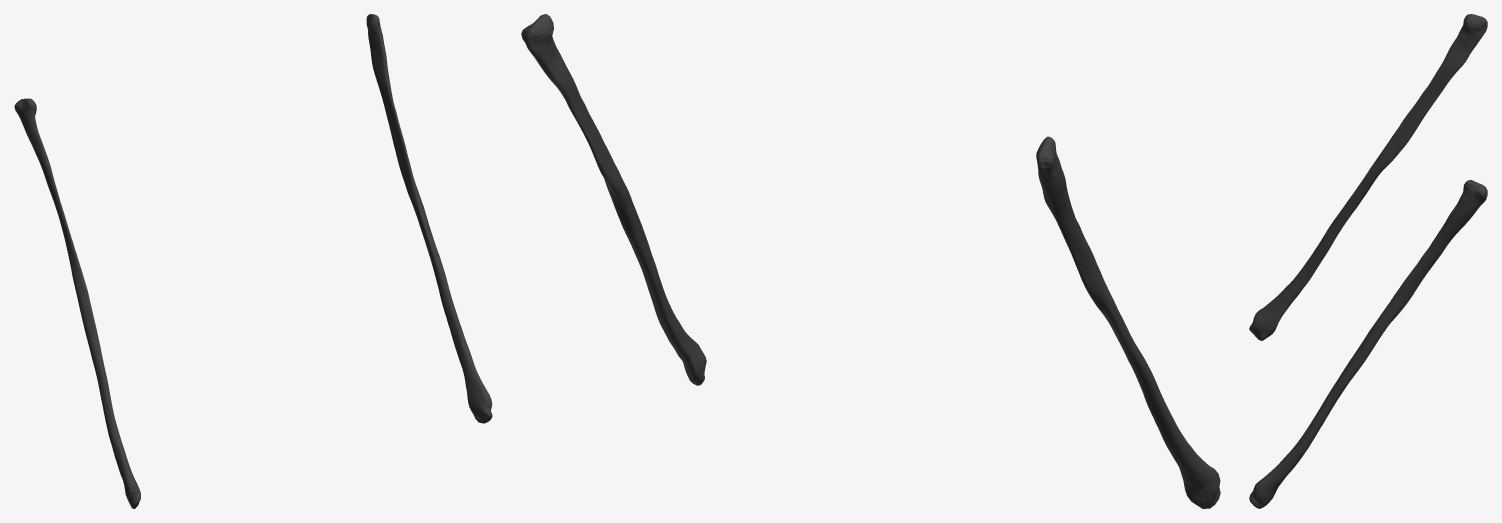
File: Fibula_1.glb
The picture shows the model from 3 angles, left to right: view 1: azimuth 30°, elevation 25°; view 2: azimuth 150°, elevation 25°; view 3: azimuth 270°, elevation 25°; orthographic projection. The views are drawn at different scales.
Visible parts, largest first — view 1: Fibula_1; view 2: Fibula_1; view 3: Fibula_1.
Part boxes in pixels (x1=…): Fibula_1: x1=14, y1=14, x2=492, y2=508; Fibula_1: x1=521, y1=14, x2=1220, y2=508; Fibula_1: x1=1249, y1=14, x2=1487, y2=508.
Bounding box in the file's own units: 0.00544 × 0.00473 × 0.00313.
Materials: 1 (1 with a texture image).
